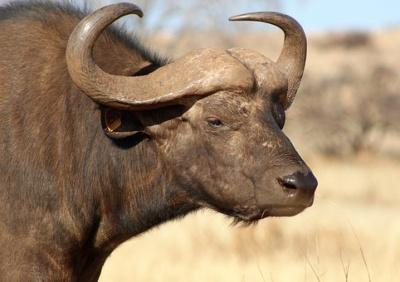buffalo: (0, 1, 316, 281)
